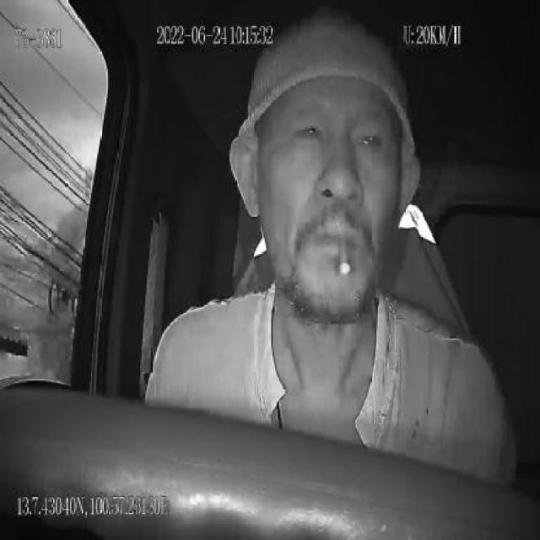smoking: (336, 232, 356, 278)
